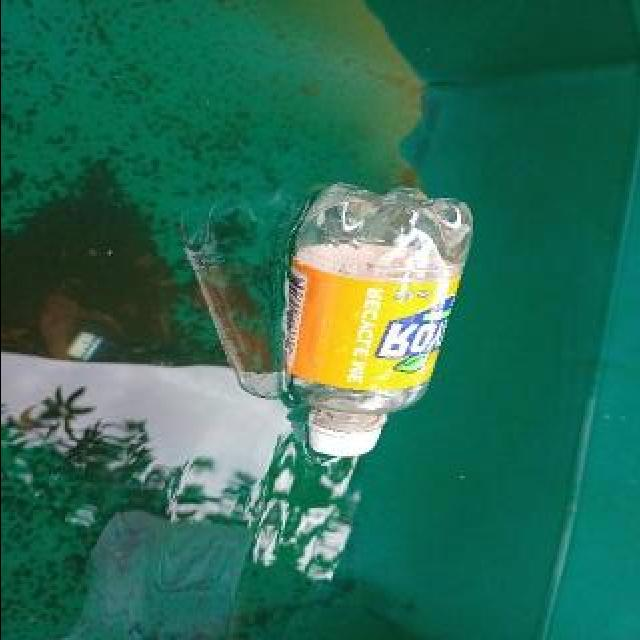Bottle: (276, 175, 478, 462)
